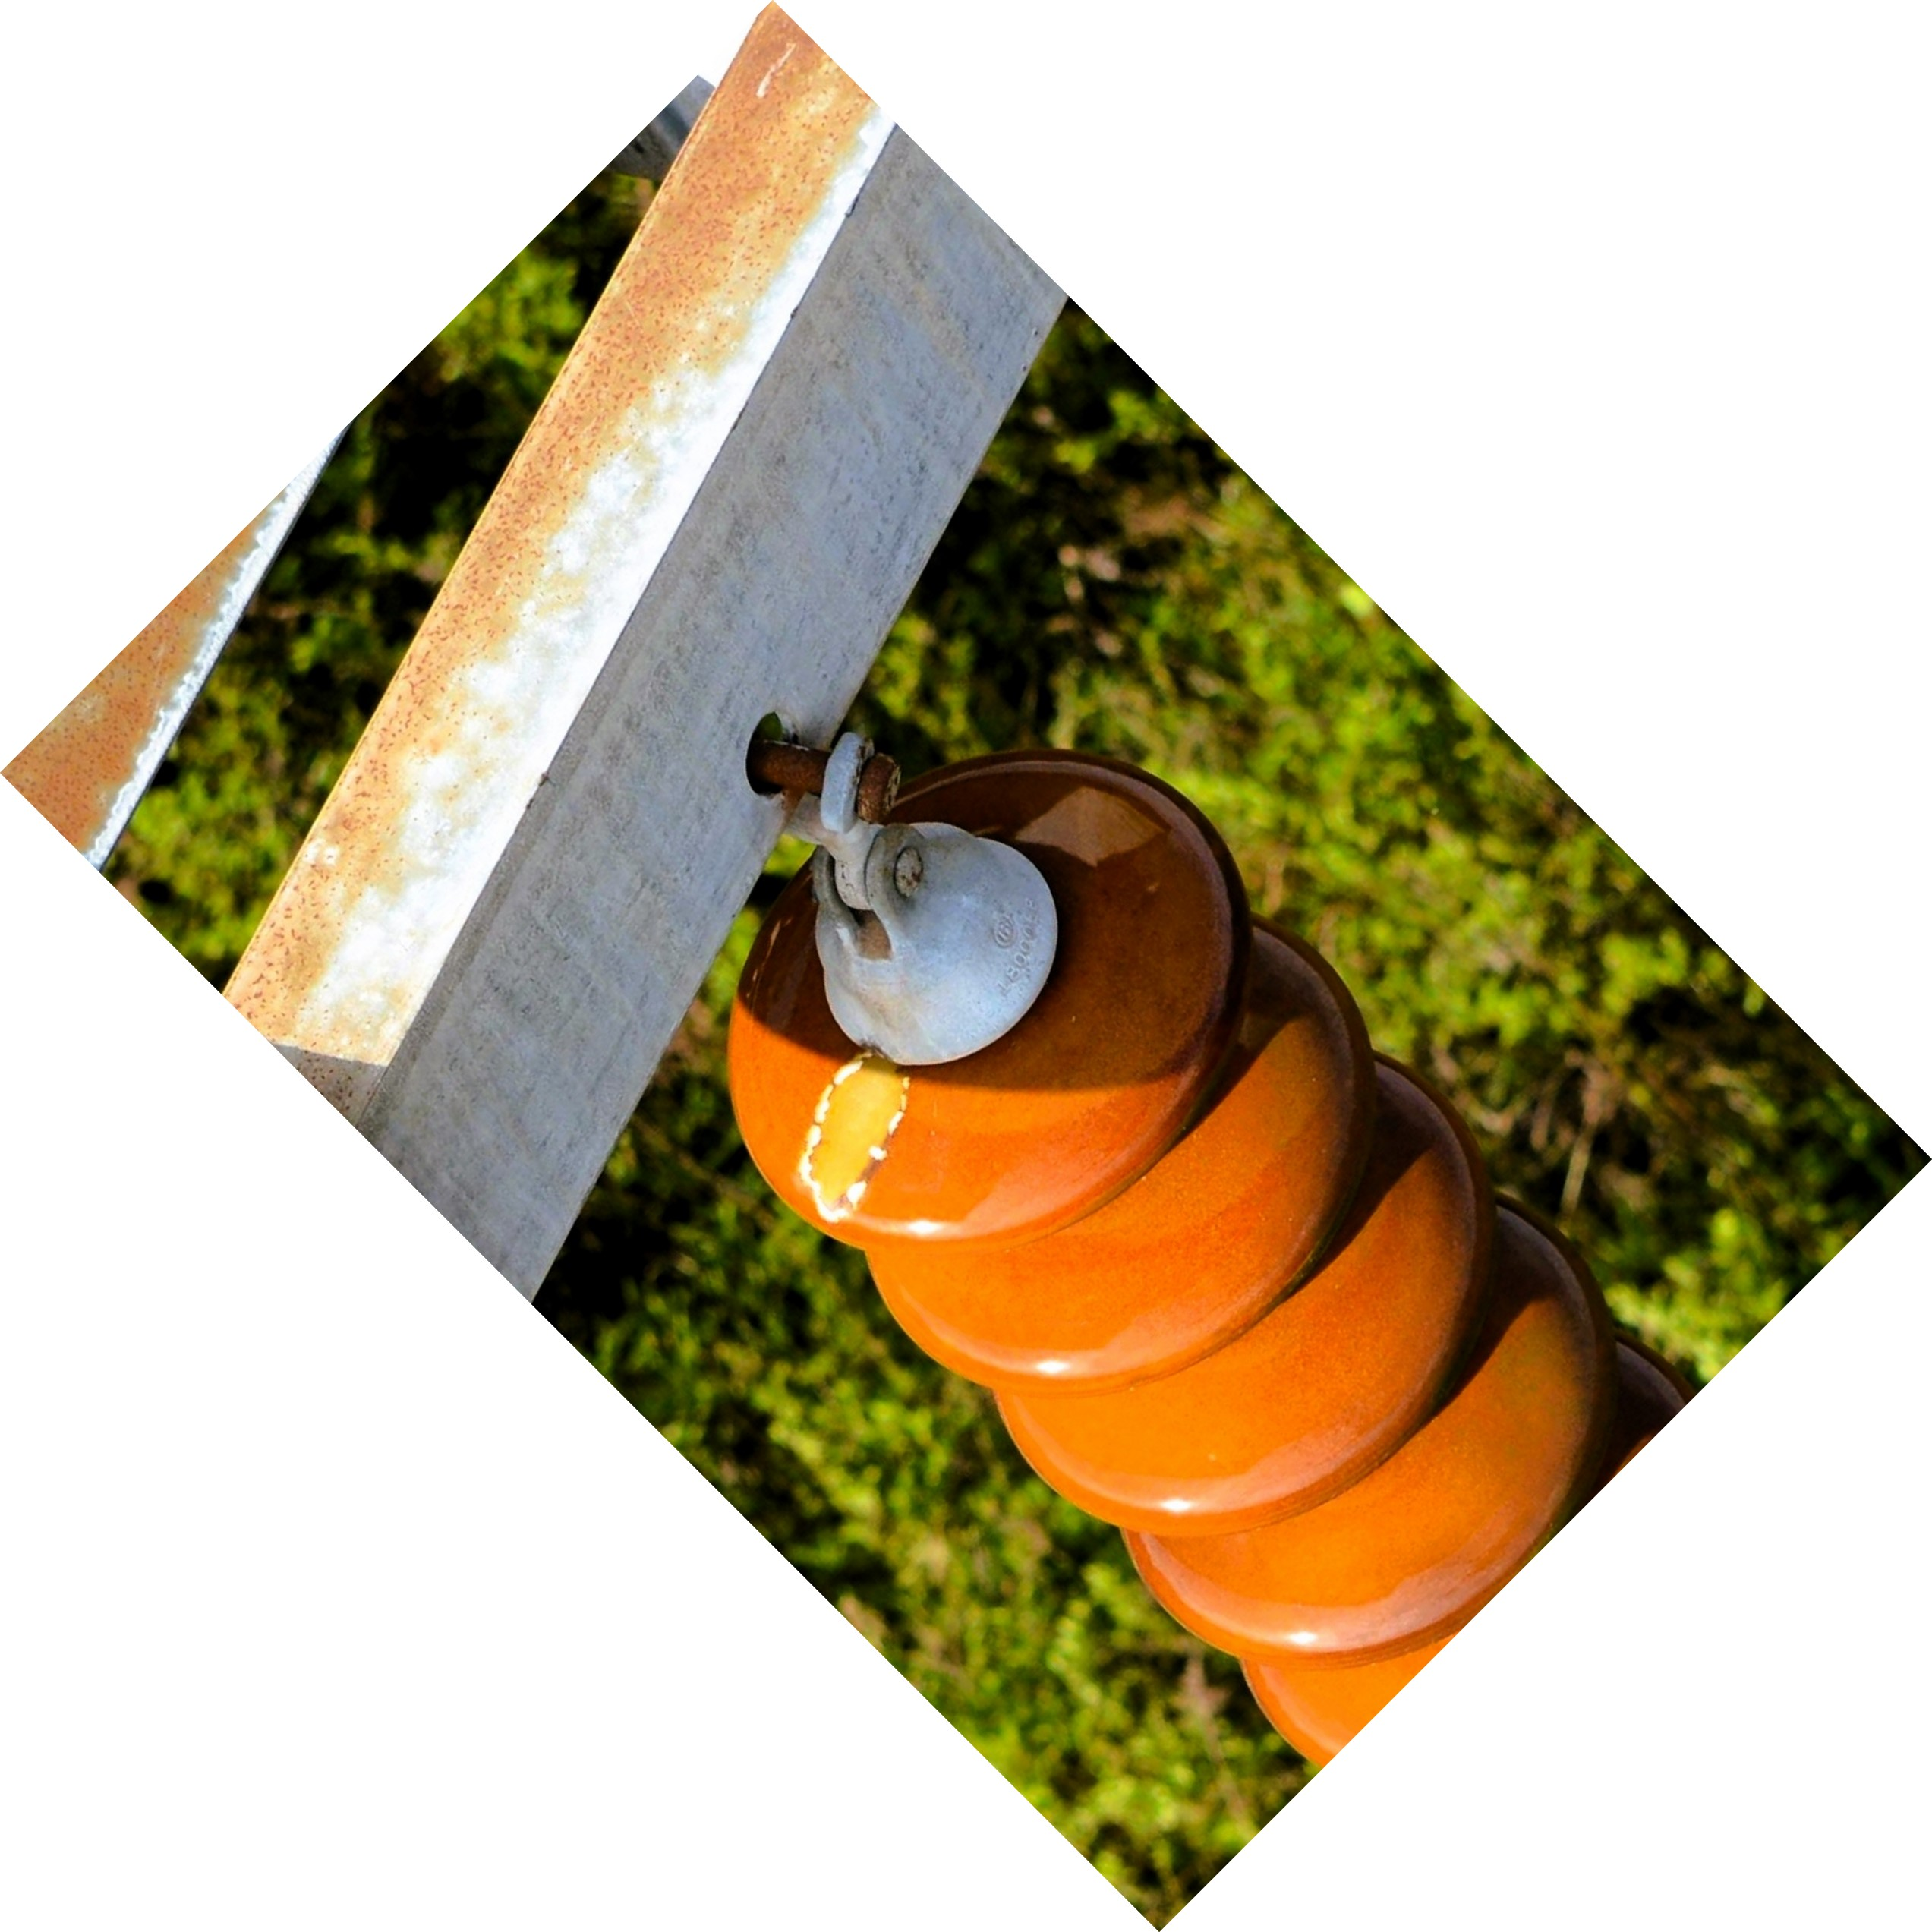Insulator flashover: (711, 736, 1260, 1258)
